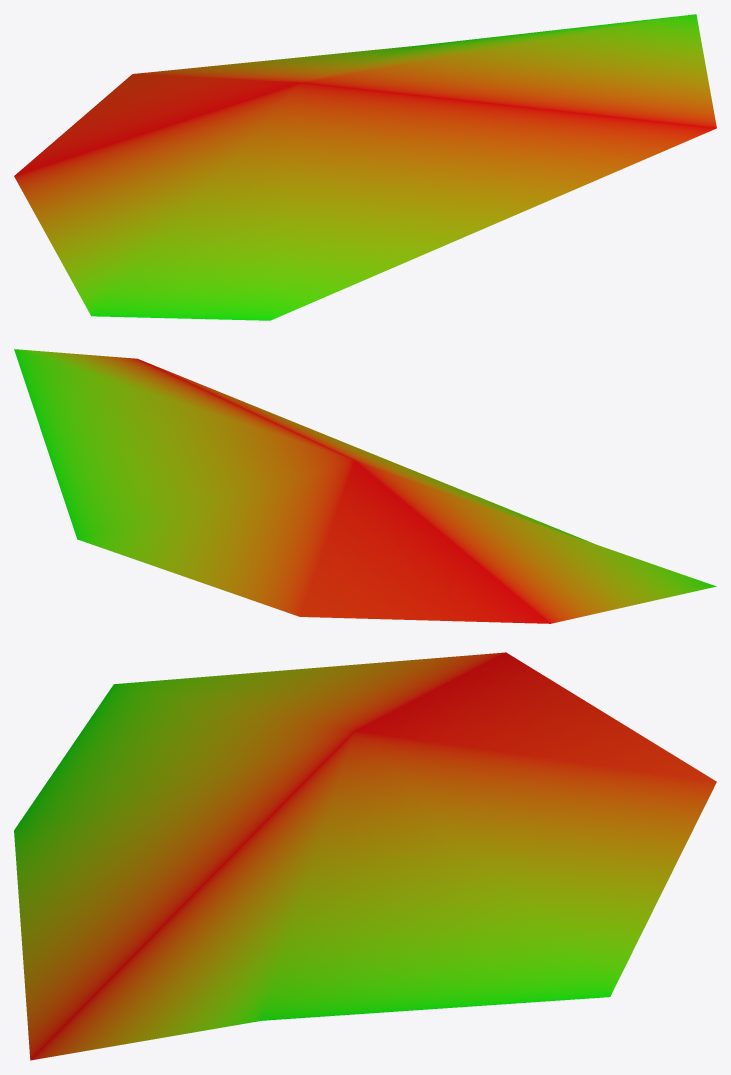
Rendered from Var3_LOD3.fbx.
3 renders of one model, top to bottom at view 1: azimuth 30°, elevation 25°; view 2: azimuth 150°, elevation 25°; view 3: azimuth 270°, elevation 25°, orthographic. The views are drawn at different scales.
Parts seen in each view (by area): view 1: _01d5_Var3_LOD3; view 2: _01d5_Var3_LOD3; view 3: _01d5_Var3_LOD3.
Part boxes in pixels (x1,y1,x2,y2): _01d5_Var3_LOD3: (14, 14, 716, 320); _01d5_Var3_LOD3: (14, 349, 716, 623); _01d5_Var3_LOD3: (14, 652, 716, 1060).
Bounding box in the file's own units: 61.17 × 11.49 × 35.31.
